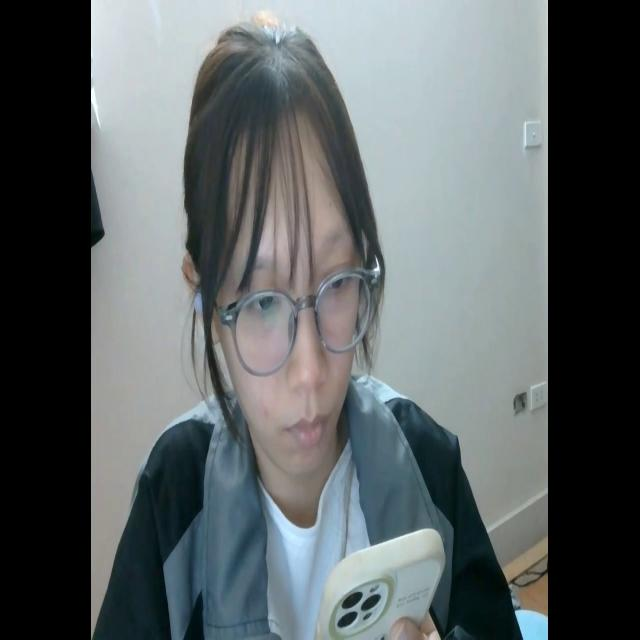phone: (316, 520, 444, 640)
student: (99, 15, 527, 640)
